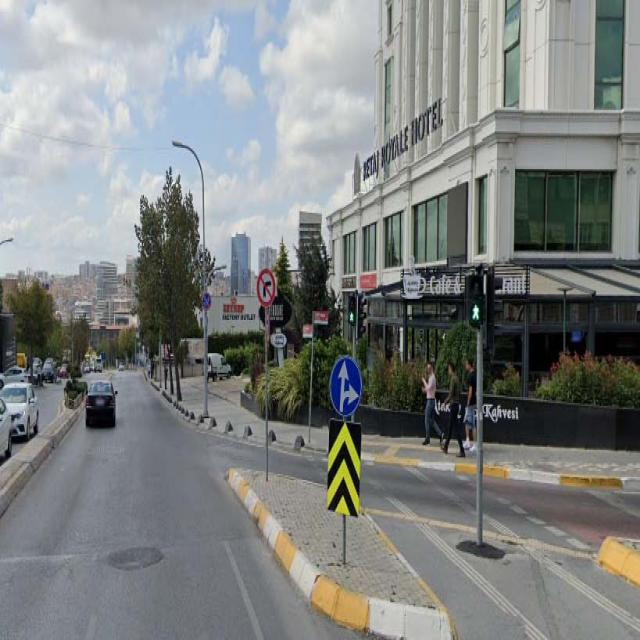ilerisag: (330, 356, 362, 418)
sagadonulmez: (257, 269, 275, 308)
